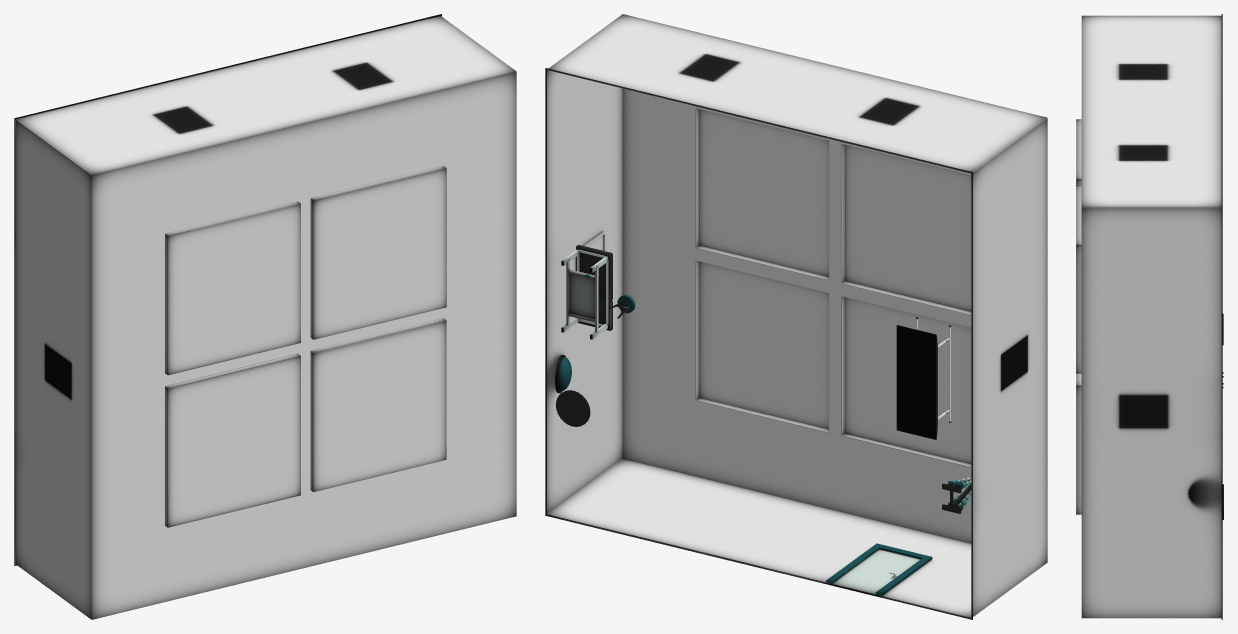
File: myosuite_scene_noFloor_noPedestal.obj
3 renders of one model, left to right at view 1: azimuth 30°, elevation 25°; view 2: azimuth 150°, elevation 25°; view 3: azimuth 270°, elevation 25°, orthographic. The views are drawn at different scales.
Parts seen in each view (by area): view 1: RoomWhite_v04_noFloor; view 2: RoomWhite_v04_noFloor; view 3: RoomWhite_v04_noFloor.
Part boxes in pixels (x1,y1,x2,y2): RoomWhite_v04_noFloor: (14,14,516,619); RoomWhite_v04_noFloor: (545,14,1047,619); RoomWhite_v04_noFloor: (1076,14,1223,619).
Bounding box in the file's own units: 1400 × 1405 × 454.
Materials: 1 (1 with a texture image).
